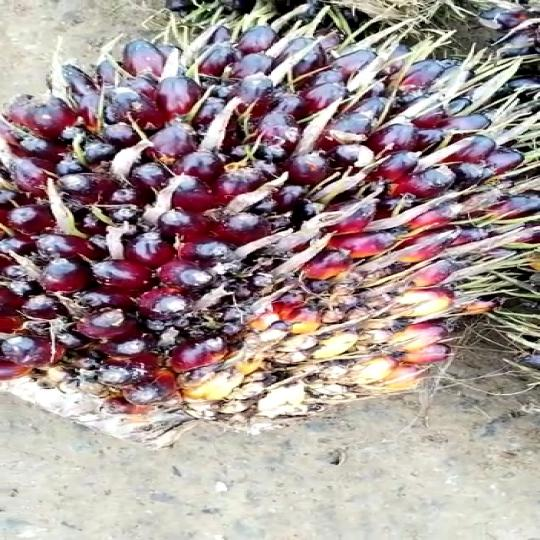mentah: (0, 21, 540, 446)
